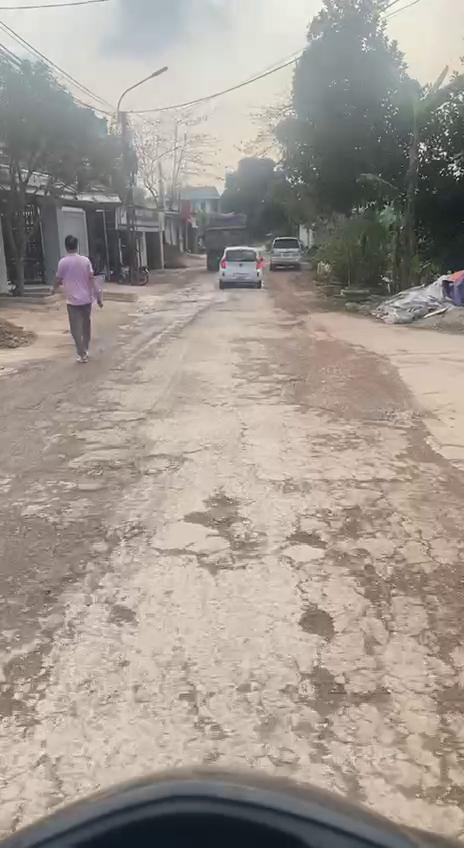pothole: (396, 730, 464, 812), (186, 492, 263, 560), (350, 565, 400, 634), (296, 664, 344, 720), (332, 506, 379, 542), (300, 605, 336, 647), (426, 684, 464, 719), (280, 526, 326, 552)
